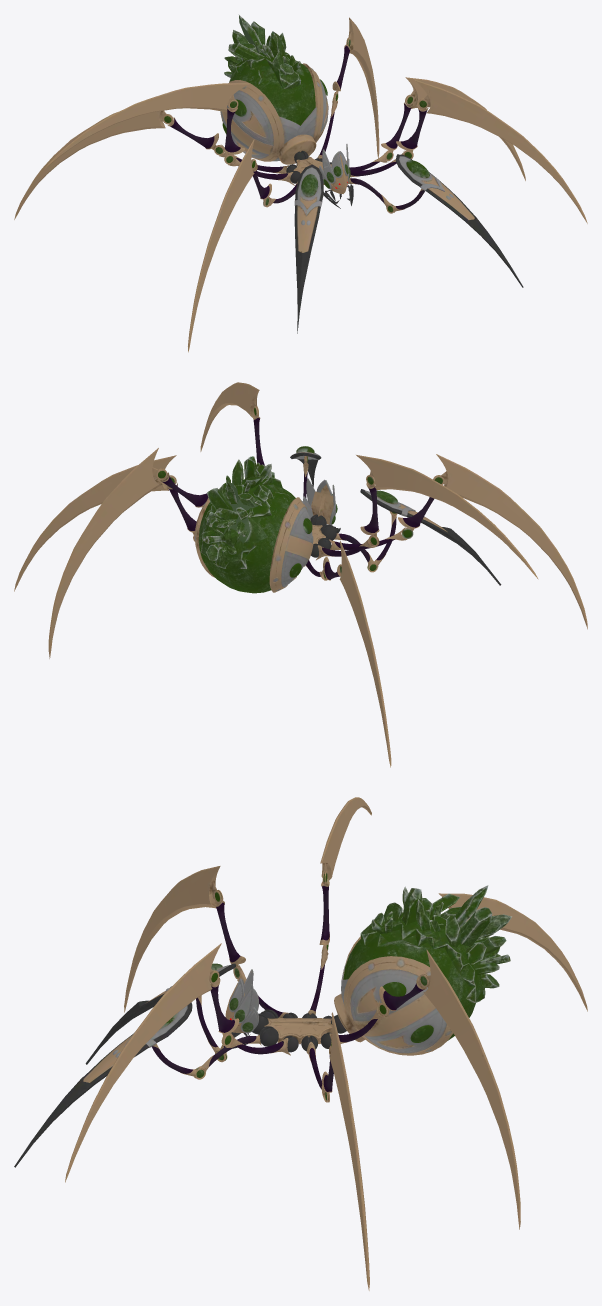
Rendered from crystal-spider.glb.
The picture shows the model from 3 angles, top to bottom: view 1: azimuth 30°, elevation 25°; view 2: azimuth 150°, elevation 25°; view 3: azimuth 270°, elevation 25°; orthographic projection. The views are drawn at different scales.
Parts seen in each view (by area): view 1: root; view 2: root; view 3: root.
Part boxes in pixels (x1=…): root: x1=14, y1=15, x2=587, y2=352; root: x1=14, y1=382, x2=587, y2=767; root: x1=14, y1=797, x2=587, y2=1290.
Size of the model in its own units: 7 by 2.7 by 5.53.
Materials: 1 (1 with a texture image).
